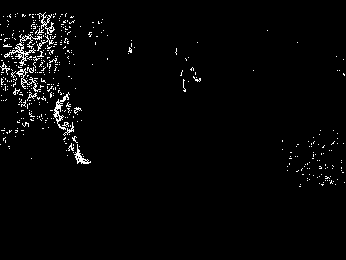person: (49, 92, 97, 166)
